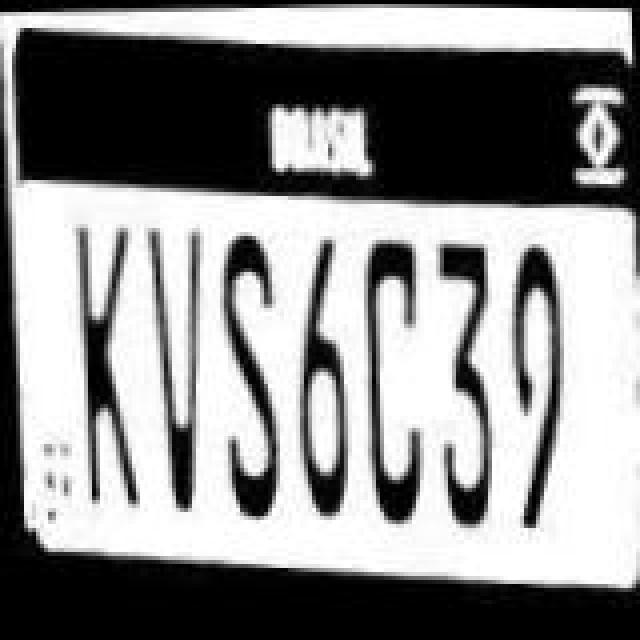3: (426, 224, 502, 532)
6: (290, 212, 358, 508)
9: (498, 206, 574, 526)
C: (348, 206, 436, 510)
K: (66, 216, 150, 516)
S: (210, 212, 294, 516)
V: (142, 214, 218, 506)
